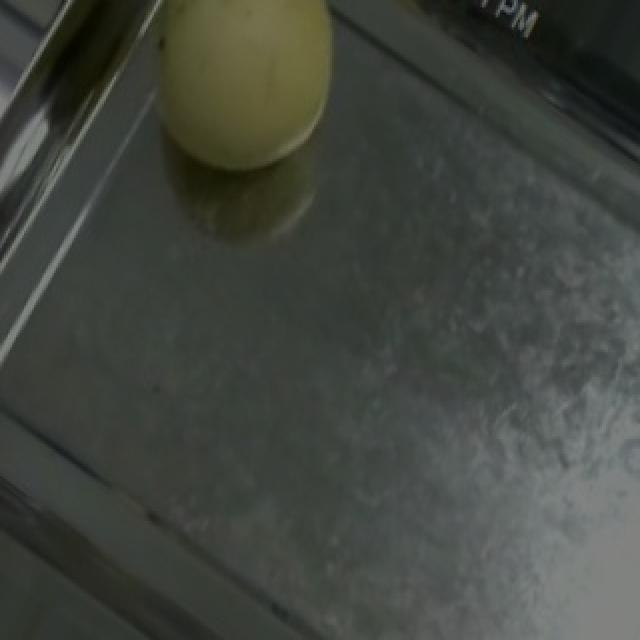Fruit: (110, 0, 374, 213)
